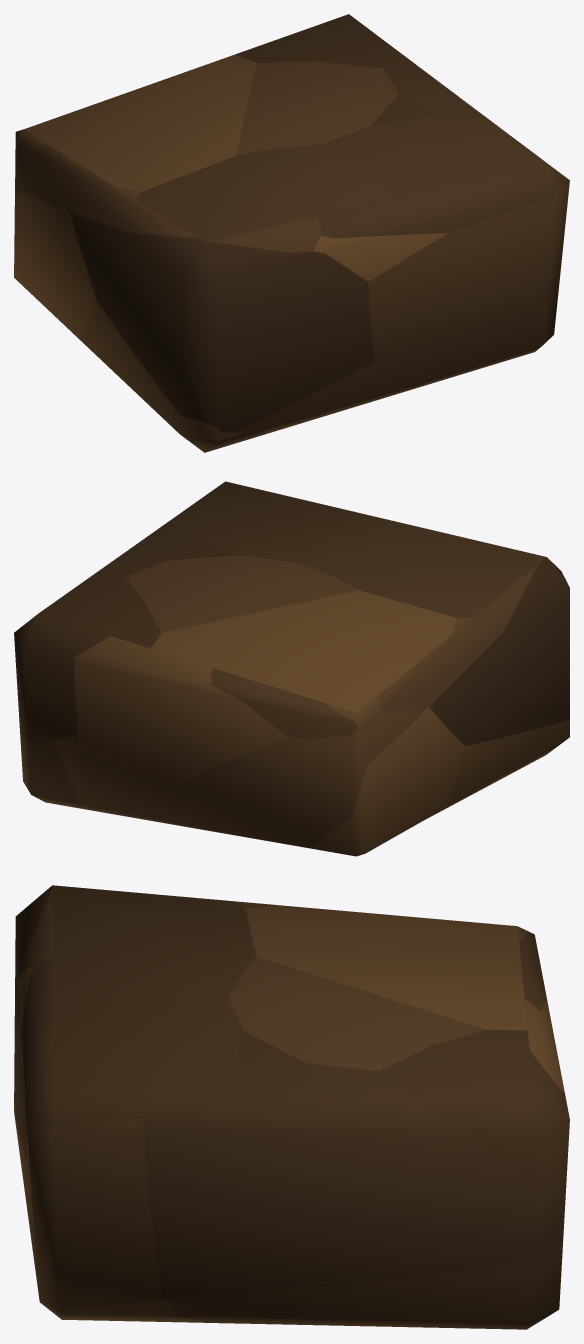
The model's file is Turba4.fbx.
3 views of the same model, one above another, from view 1: azimuth 30°, elevation 25°; view 2: azimuth 150°, elevation 25°; view 3: azimuth 270°, elevation 25° (orthographic). The views are drawn at different scales.
Parts seen in each view (by area): view 1: Turba.003; view 2: Turba.003; view 3: Turba.003.
Part boxes in pixels (box(x1,y1,x2,y2)): Turba.003: box(14, 14, 569, 452); Turba.003: box(14, 481, 569, 856); Turba.003: box(14, 885, 569, 1329).
Bounding box in the file's own units: 93.89 × 48.3 × 94.53.
Materials: 1 (1 with a texture image).
